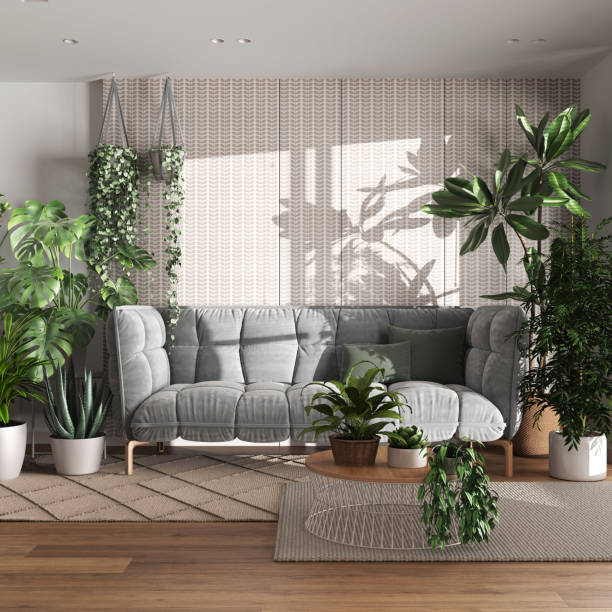large plant: (433, 103, 602, 278), (10, 207, 147, 384), (526, 217, 612, 484), (42, 356, 112, 479), (0, 314, 44, 480)
small plant: (310, 360, 391, 471), (423, 440, 501, 549), (388, 424, 431, 470)
sofa: (101, 297, 527, 482)
